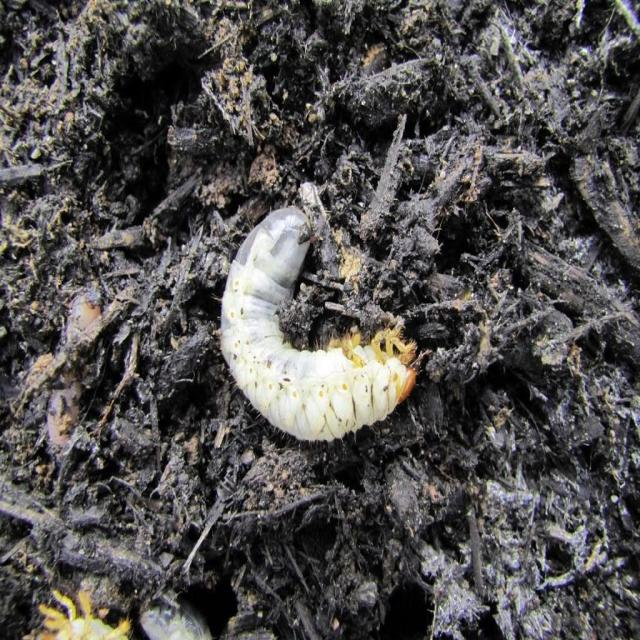grub: (219, 201, 428, 444)
